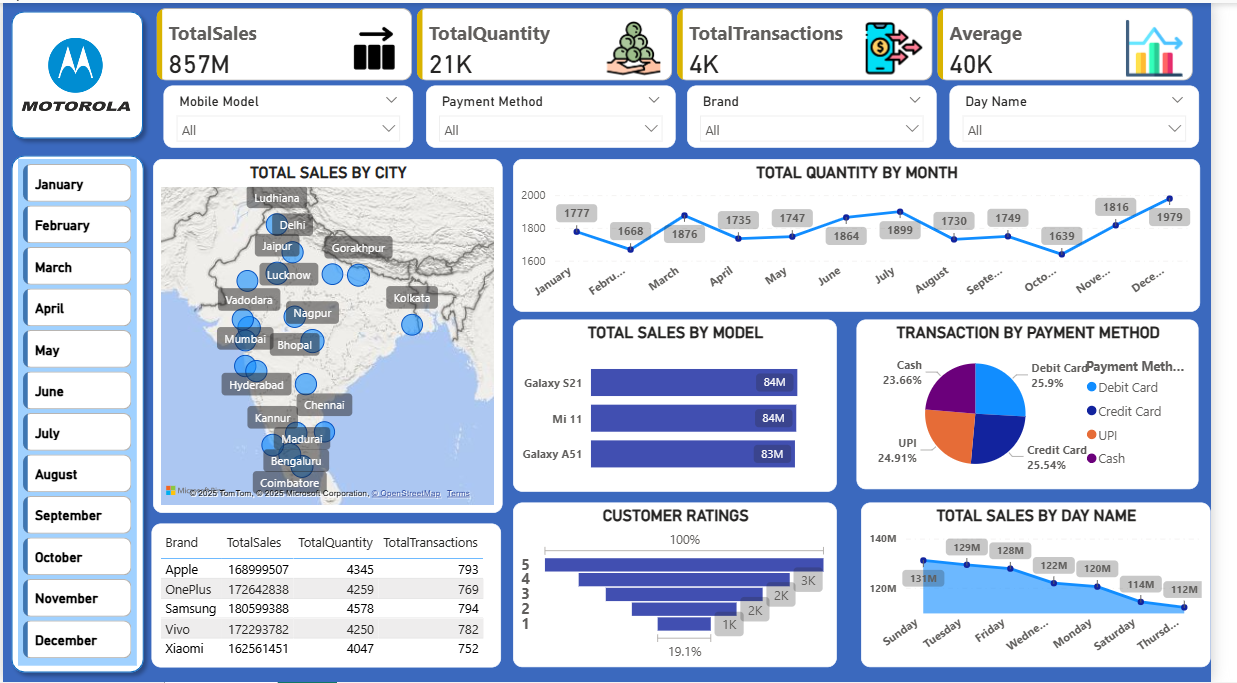

Layout of this report page (visuals, bound fields, positions):
{"tool":"powerbi","page":{"name":"Page 1","canvas":[1280,720],"ordinal":0},"visuals":[{"type":"shape","box":[0,0,157.5,152.7],"z":0},{"type":"image","box":[14.3,6.4,125.7,138.4],"z":1000},{"type":"shape","box":[0,153.2,158.1,566.1],"z":2000},{"type":"advancedSlicerVisual","fields":{"Values":["Mobile_Sales_Project.Date.Variation.Date Hierarchy.Month"]},"box":[16.1,166.1,125.8,537.1],"z":3000},{"type":"cardVisual","fields":{"Data":["Mobile_Sales_Project.TotalSales","Mobile_Sales_Project.TotalQuantity","Mobile_Sales_Project.TotalTransactions","Mobile_Sales_Project.Average"]},"box":[158.1,0,1111.3,87.1],"z":4000},{"type":"map","title":"TOTAL SALES BY CITY","fields":{"Category":["Mobile_Sales_Project.City"],"Size":["Mobile_Sales_Project.TotalSales"]},"box":[159.1,165.4,370.6,375.4],"z":5000},{"type":"lineChart","title":"TOTAL QUANTITY BY MONTH","fields":{"Category":["Mobile_Sales_Project.Date.Variation.Date Hierarchy.Month","Mobile_Sales_Project.Date.Variation.Date Hierarchy.Day"],"Y":["Mobile_Sales_Project.TotalQuantity"]},"box":[540.8,165.4,728.5,162.2],"z":6000},{"type":"clusteredBarChart","title":"TOTAL SALES BY MODEL","fields":{"Category":["Mobile_Sales_Project.Mobile Model"],"Y":["Mobile_Sales_Project.TotalSales"]},"box":[540.8,335.6,343.6,182.9],"z":7000},{"type":"pieChart","title":"TRANSACTION BY PAYMENT METHOD","fields":{"Category":["Mobile_Sales_Project.Payment Method"],"Y":["Mobile_Sales_Project.TotalTransactions"]},"box":[905.1,335.6,362.7,179.7],"z":8000},{"type":"funnel","title":" CUSTOMER RATINGS","fields":{"Category":["Mobile_Sales_Project.Customer Ratings"],"Y":["Sum(Mobile_Sales_Project.Customer Ratings)"]},"box":[540.8,529.7,343.6,175],"z":9000},{"type":"areaChart","title":"TOTAL SALES BY DAY NAME","fields":{"Category":["Mobile_Sales_Project.Day Name"],"Y":["Mobile_Sales_Project.TotalSales"]},"box":[909.8,529.7,370.6,175],"z":10000},{"type":"tableEx","fields":{"Values":["Mobile_Sales_Project.Brand","Mobile_Sales_Project.TotalSales","Mobile_Sales_Project.TotalQuantity","Mobile_Sales_Project.TotalTransactions"]},"box":[157.5,551.9,370.6,152.7],"z":11000},{"type":"slicer","fields":{"Values":["Mobile_Sales_Project.Mobile Model"]},"box":[171,87.1,264.5,66.1],"z":12000},{"type":"slicer","fields":{"Values":["Mobile_Sales_Project.Payment Method"]},"box":[448.4,87.1,264.5,66.1],"z":13000},{"type":"slicer","fields":{"Values":["Mobile_Sales_Project.Brand"]},"box":[725.8,87.1,264.5,66.1],"z":14000},{"type":"slicer","fields":{"Values":["Mobile_Sales_Project.Day Name"]},"box":[1003.2,87.1,264.5,66.1],"z":15000}]}

Visuals, with their boxes in screenshot pixels (x1, y1, x2, y2), scaled from the page's 1280x720 canvas onto the 1237x683 screenshot:
shape: bbox(0, 0, 152, 145)
image: bbox(14, 6, 135, 137)
shape: bbox(0, 145, 153, 682)
advancedSlicerVisual - Mobile_Sales_Project.Date.Variation.Date Hierarchy.Month: bbox(16, 158, 137, 667)
cardVisual - Mobile_Sales_Project.TotalSales x Mobile_Sales_Project.TotalQuantity: bbox(153, 0, 1227, 83)
"TOTAL SALES BY CITY" map: bbox(154, 157, 512, 513)
"TOTAL QUANTITY BY MONTH" lineChart: bbox(523, 157, 1227, 311)
"TOTAL SALES BY MODEL" clusteredBarChart: bbox(523, 318, 855, 492)
"TRANSACTION BY PAYMENT METHOD" pieChart: bbox(875, 318, 1225, 489)
" CUSTOMER RATINGS" funnel: bbox(523, 502, 855, 668)
"TOTAL SALES BY DAY NAME" areaChart: bbox(879, 502, 1236, 668)
tableEx - Mobile_Sales_Project.Brand x Mobile_Sales_Project.TotalSales: bbox(152, 524, 510, 668)
slicer - Mobile_Sales_Project.Mobile Model: bbox(165, 83, 421, 145)
slicer - Mobile_Sales_Project.Payment Method: bbox(433, 83, 689, 145)
slicer - Mobile_Sales_Project.Brand: bbox(701, 83, 957, 145)
slicer - Mobile_Sales_Project.Day Name: bbox(969, 83, 1225, 145)
